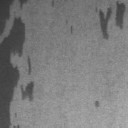red iron: (0, 18, 25, 128), (96, 2, 126, 40), (0, 0, 14, 34), (21, 82, 34, 101), (19, 0, 28, 8), (28, 56, 32, 74), (95, 100, 100, 107), (70, 26, 73, 34), (52, 0, 54, 7), (66, 19, 68, 24)
